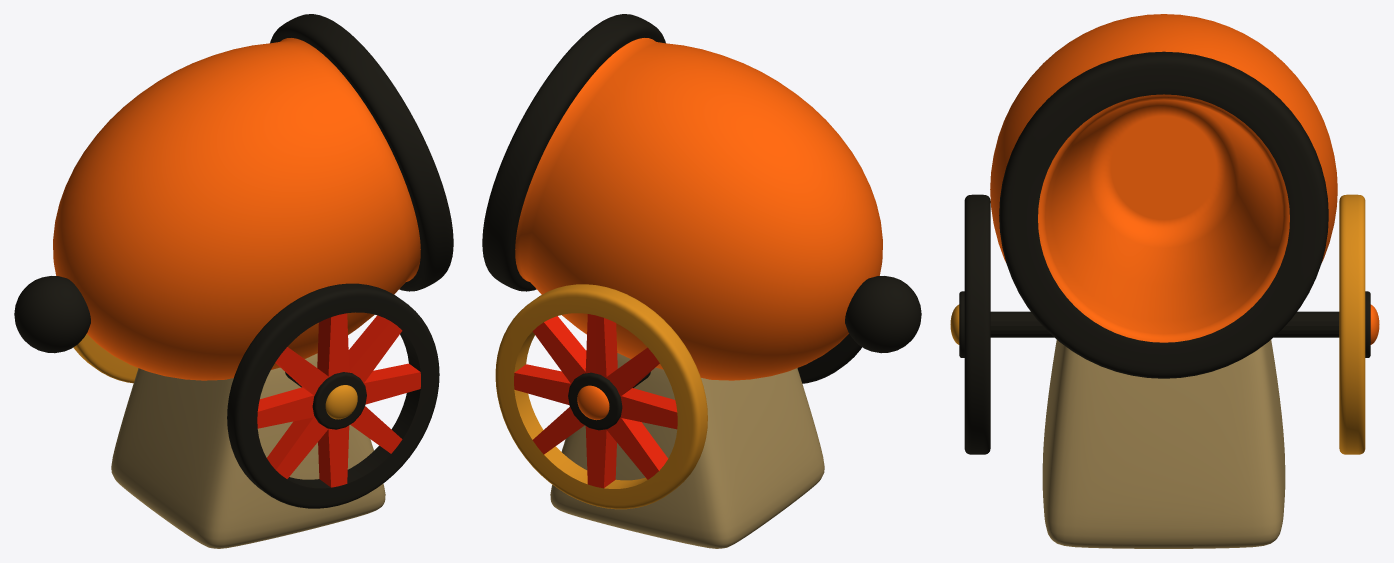
3 views of the same model, side by side, from view 1: azimuth 30°, elevation 25°; view 2: azimuth 150°, elevation 25°; view 3: azimuth 270°, elevation 25° (orthographic). The views are drawn at different scales.
Visible parts, largest first — view 1: Sphere019, Box014, Tube018, Group065, Group064, Sphere020, Cylinder052, Tube019, Sphere021; view 2: Sphere019, Box014, Tube019, Group066, Group064, Sphere020, Cylinder053, Tube018, Sphere022; view 3: Sphere019, Box014, Group064, Tube018, Tube019, Cylinder053, Cylinder052.
Part boxes in pixels (<box>): Sphere019: <box>53,38,420,380</box>; Box014: <box>111,353,385,548</box>; Tube018: <box>227,283,439,508</box>; Group065: <box>257,313,420,487</box>; Group064: <box>270,14,453,291</box>; Sphere020: <box>14,276,90,353</box>; Cylinder052: <box>285,372,366,429</box>; Tube019: <box>73,334,138,383</box>; Sphere021: <box>325,385,357,419</box>; Sphere019: <box>515,38,882,380</box>; Box014: <box>550,353,824,548</box>; Tube019: <box>495,284,707,509</box>; Group066: <box>514,314,677,488</box>; Group064: <box>482,14,665,291</box>; Sphere020: <box>845,276,921,353</box>; Cylinder053: <box>568,372,650,430</box>; Tube018: <box>797,334,861,383</box>; Sphere022: <box>577,385,609,420</box>; Sphere019: <box>990,14,1337,342</box>; Box014: <box>1042,339,1285,548</box>; Group064: <box>999,51,1328,378</box>; Tube018: <box>964,194,990,454</box>; Tube019: <box>1339,194,1365,454</box>; Cylinder053: <box>1273,291,1370,357</box>; Cylinder052: <box>959,291,1054,357</box>.
Size of the model in its own units: 37.83 by 42.51 by 32.99.
